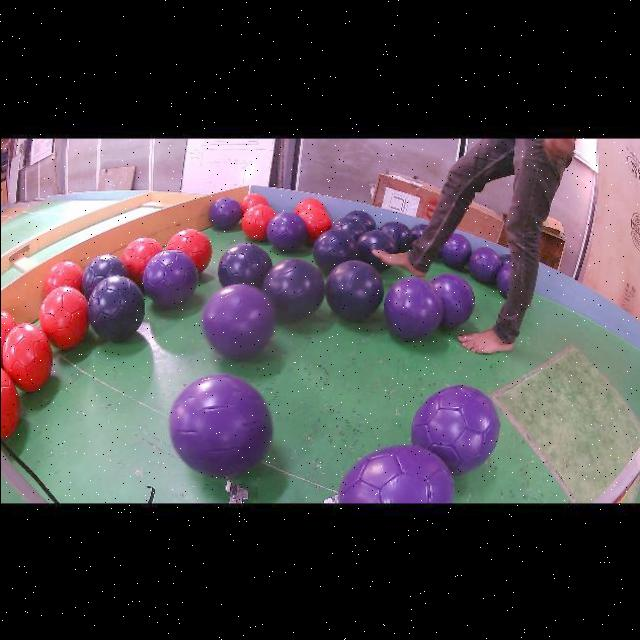B: (87, 274, 144, 342), (262, 258, 324, 319), (325, 259, 382, 320), (216, 243, 272, 287), (81, 253, 128, 299), (311, 229, 358, 274), (356, 229, 396, 271), (378, 220, 411, 252), (330, 216, 366, 240), (344, 209, 375, 230)
P: (168, 373, 271, 477), (410, 385, 499, 474), (324, 444, 453, 502), (384, 273, 473, 339), (201, 283, 273, 359), (382, 276, 442, 339), (142, 249, 197, 307), (266, 211, 306, 252), (467, 247, 501, 282), (208, 196, 242, 229), (441, 233, 471, 267), (496, 261, 510, 297)
R: (1, 323, 52, 391), (38, 285, 87, 348), (120, 236, 162, 288), (165, 228, 211, 272), (294, 197, 332, 243), (43, 259, 82, 295), (0, 367, 19, 436), (241, 204, 275, 240), (0, 309, 15, 365), (238, 192, 268, 212)
